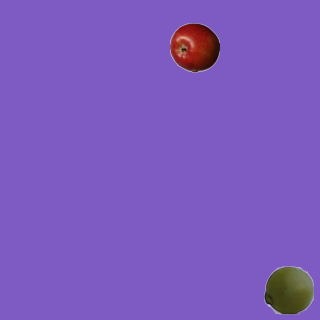Apple Braeburn: (169, 22, 219, 72)
Grape White 4: (263, 264, 313, 314)
